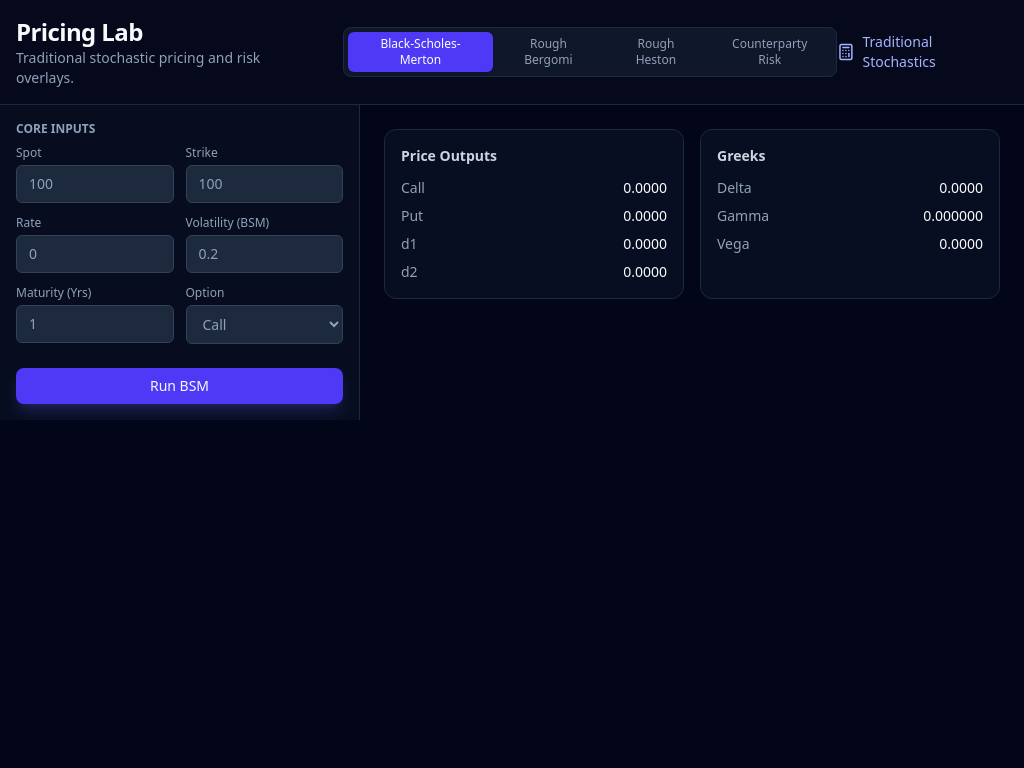
Test: PricingTab › should switch to Rough Heston and run simulation
This screenshot has width=1024, height=768.
What coordinates should you click on to do the following:
click the button "Rough Heston"
I would click on:
 (656, 52)
Its box is [604,32,708,72].
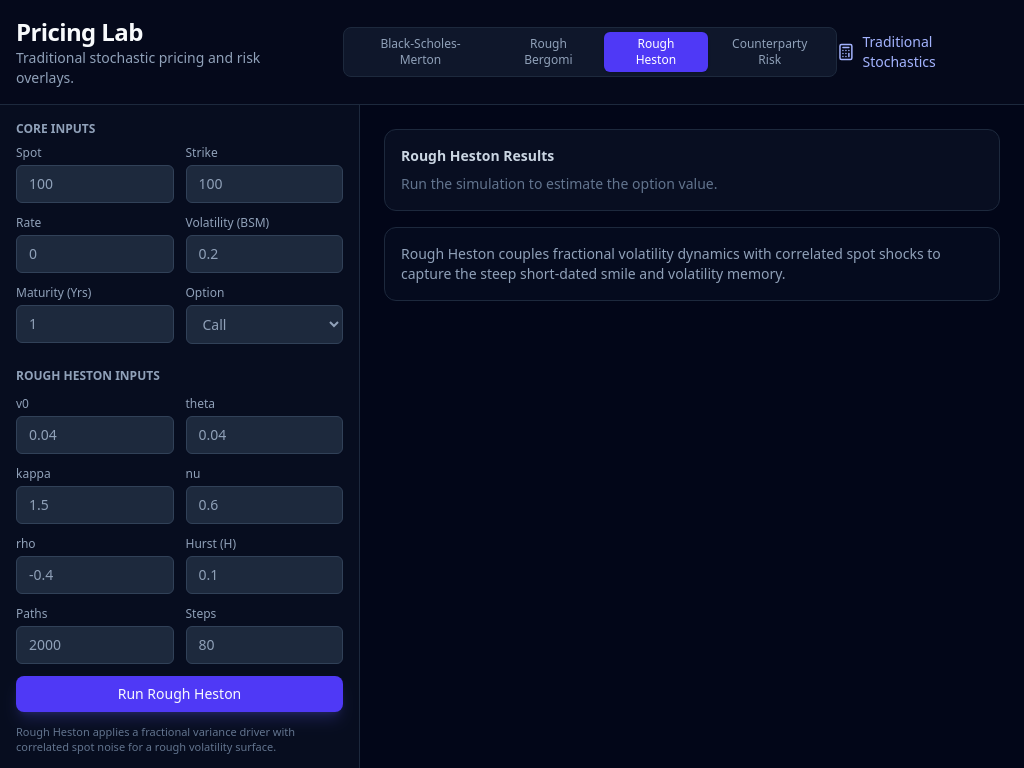
What coordinates should you click on to do the following:
click the button "Run Rough Heston"
I would click on:
 (180, 694)
Its box is [16,676,343,712].
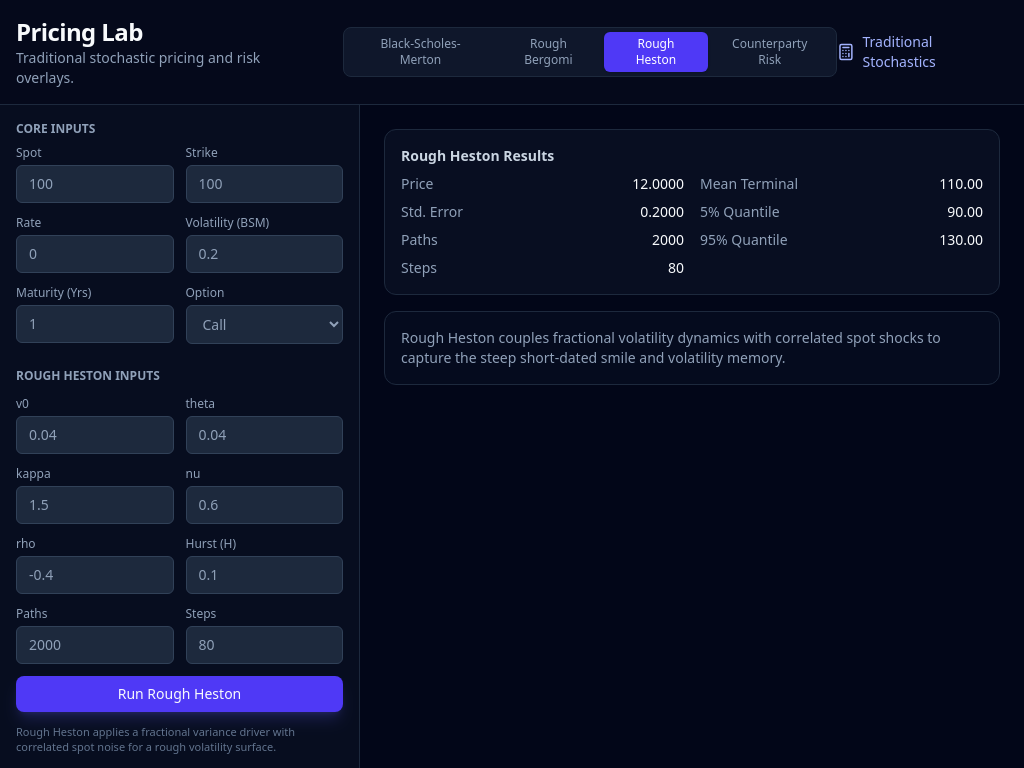
Now the text "12.0000" is shown, box [632,174,684,194]
